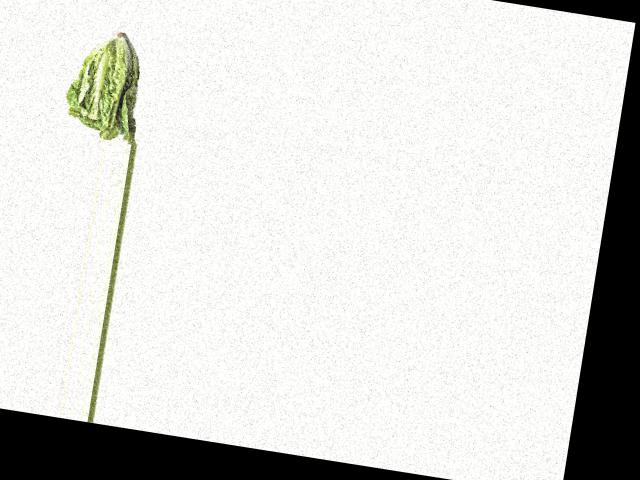lettuce: (56, 27, 150, 144)
